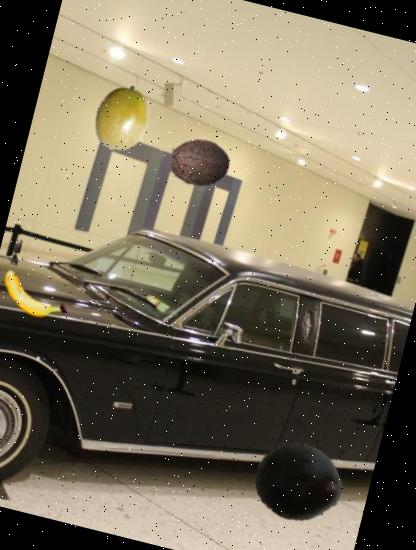Banana: (0, 253, 76, 339)
Cocos: (164, 127, 238, 200)
Maracuja: (82, 78, 164, 160)
Plum: (245, 430, 352, 536)
